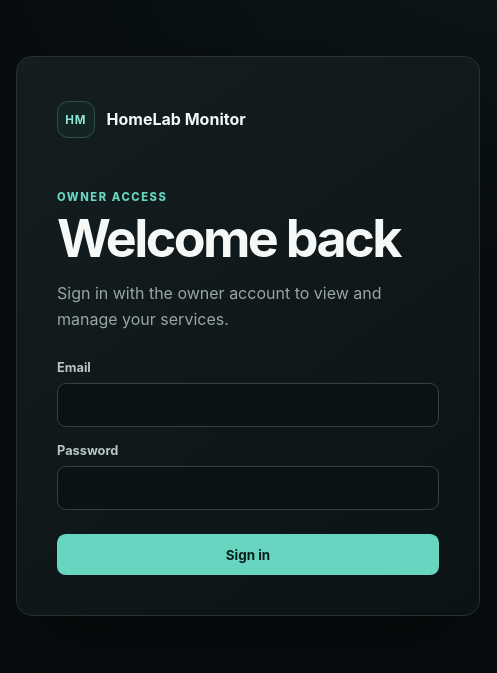
Test case: monitoring dashboard › shows a generic login error without entering the application
This screenshot has width=497, height=673.
Check: the heading "Welcome back" is shown, box [57,213,439,265]
In the field labelled "Email": (248, 405) [57,383,439,427], type "owner@example.com"
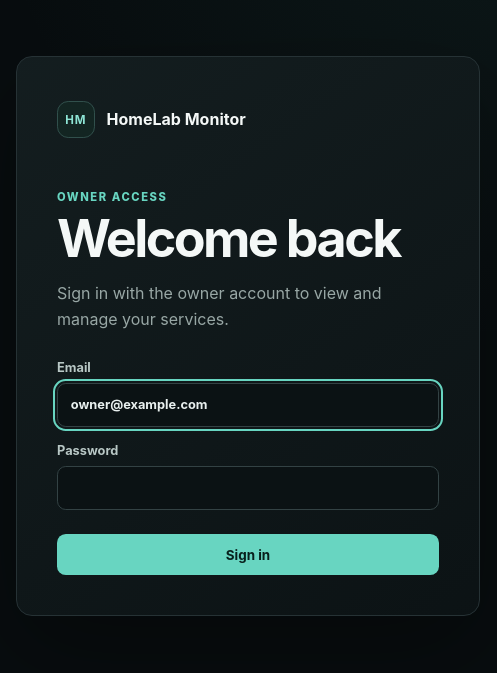
In the password field labelled "Password": (248, 488) [57,466,439,510], type "wrong-password"
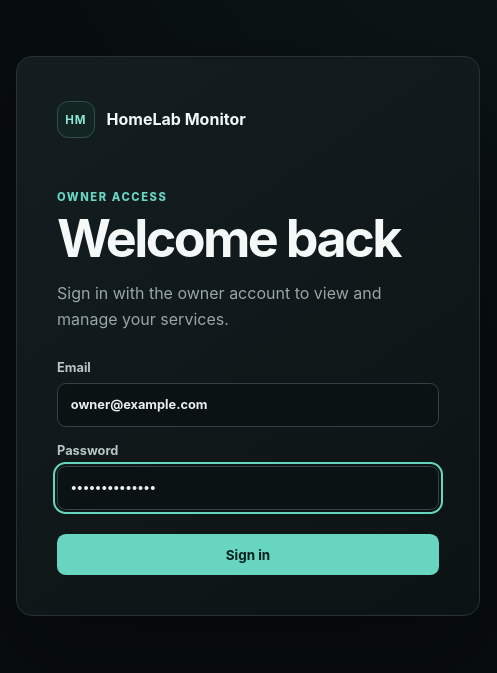
Click the button "Sign in": (248, 555) [57,534,439,575]
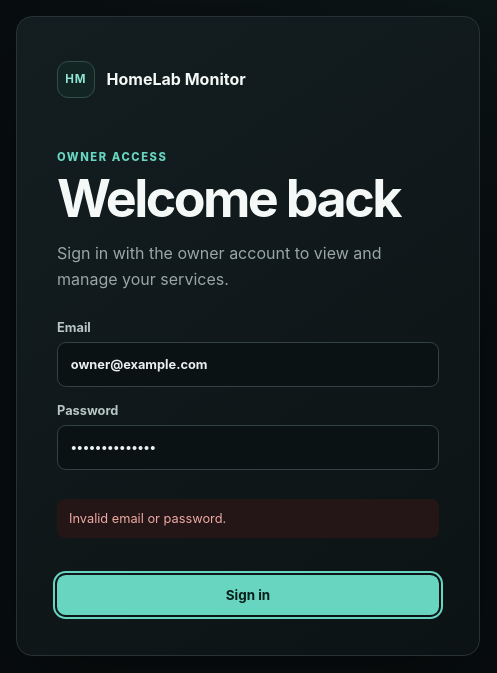
Check: the message reads "Invalid email or password.", box [69,511,226,526]
